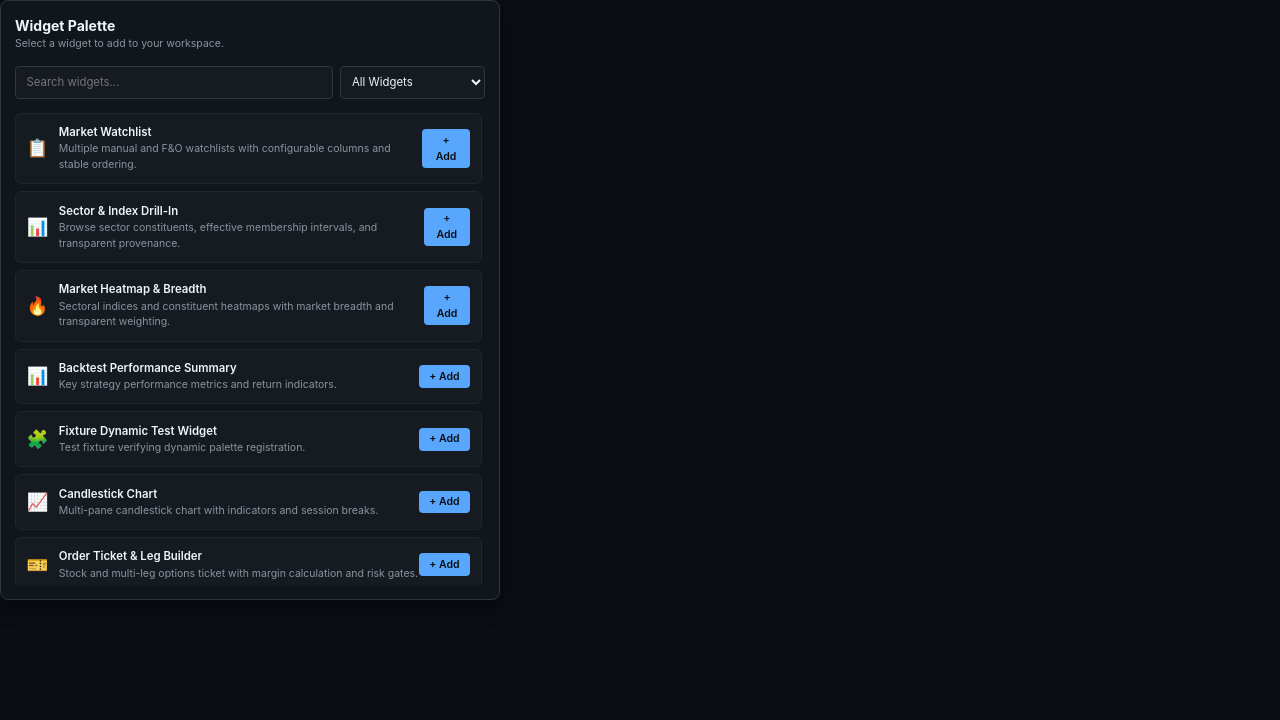
Test: WidgetPalette Component › renders registered widgets and filters by search query
Check: the dialog "Widget Palette" is shown, box left=0, top=0, right=500, bottom=600
Check: the text "Market Watchlist" is shown, box left=59, top=125, right=151, bottom=139
// Search filter
Type "blotter" into the field labelled "Search widgets" at [174, 82], box left=15, top=66, right=333, bottom=99
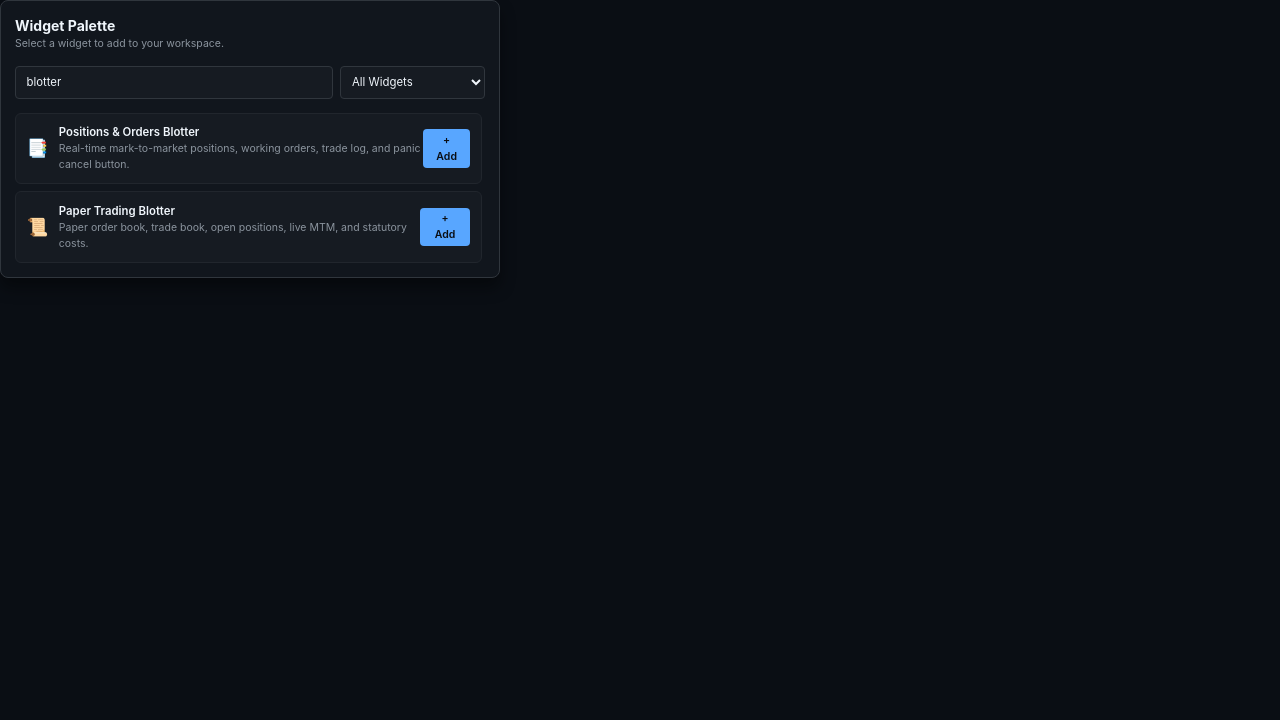
Check: the text "Positions & Orders Blotter" is shown, box left=59, top=125, right=199, bottom=139
Check: the text "Market Watchlist" is gone
